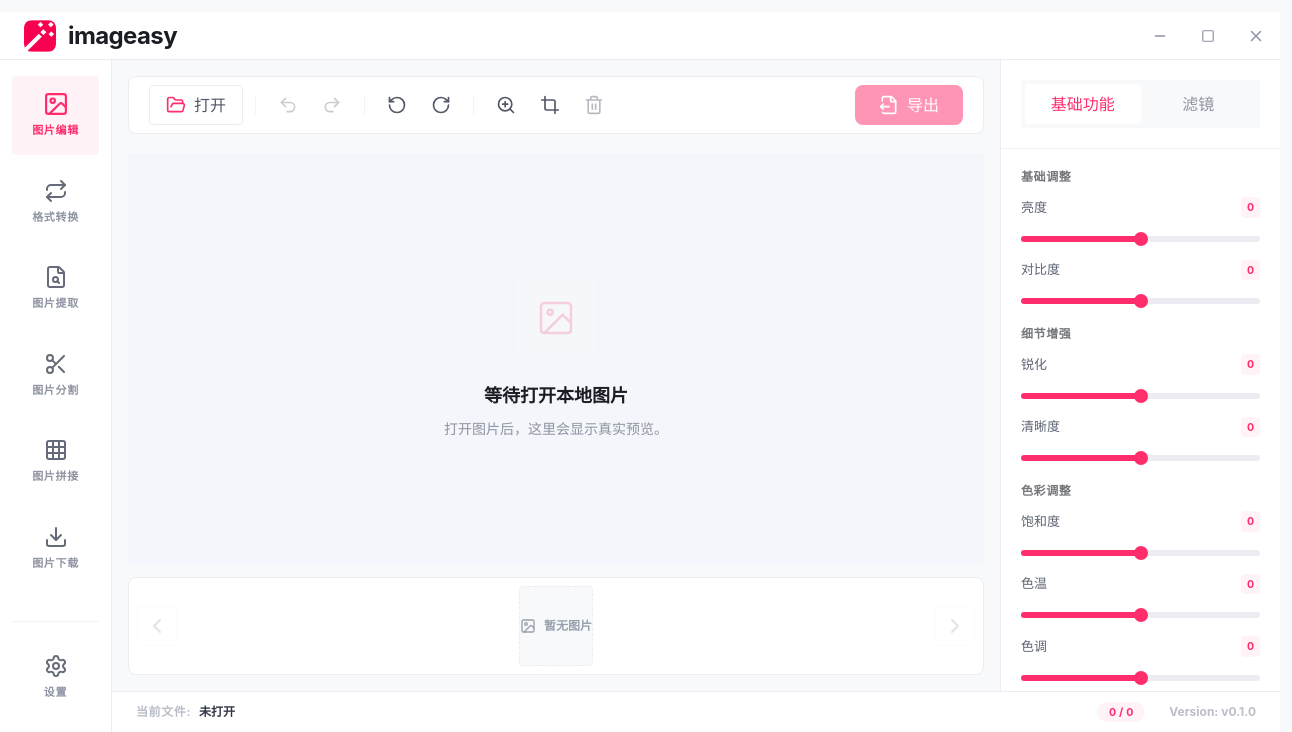
Test case: App bootstrap › switches to the unified conversion workbench from navigation
The image size is (1292, 732).
Step 1. Click the button "格式转换" → click(56, 202), box [12,162,99,241]
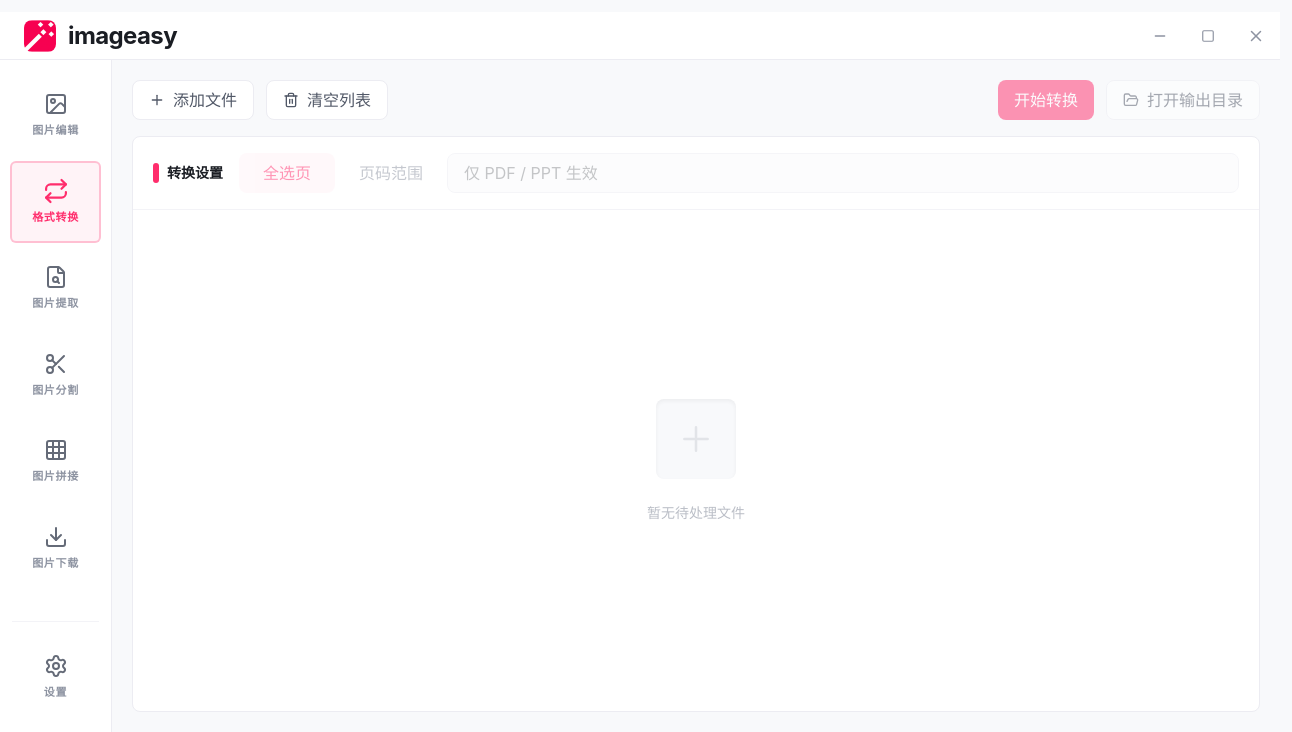
Now the button "添加文件" is shown, box [132,80,254,120]
Now the button "开始转换" is shown, box [998,80,1094,120]
Now the element named "转换设置区" is shown, box [133,137,1259,210]
